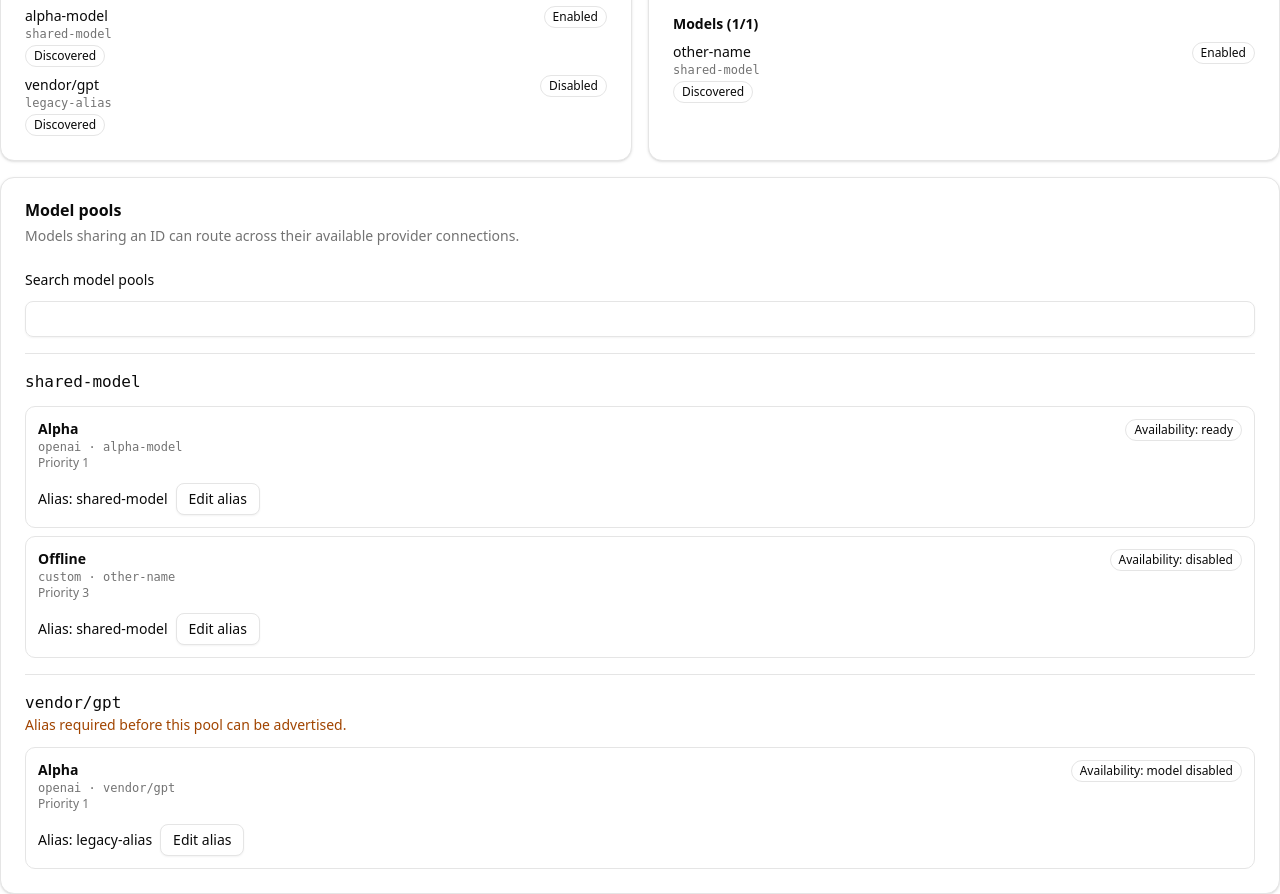
Providers model pools › removes an existing alias
(page scrolled)
Expected: the heading "Model pools" is shown, [25,199,121,221]
Step 1. Click the 3rd button "Edit alias" → (202, 840), box [160,824,244,856]
(page scrolled)
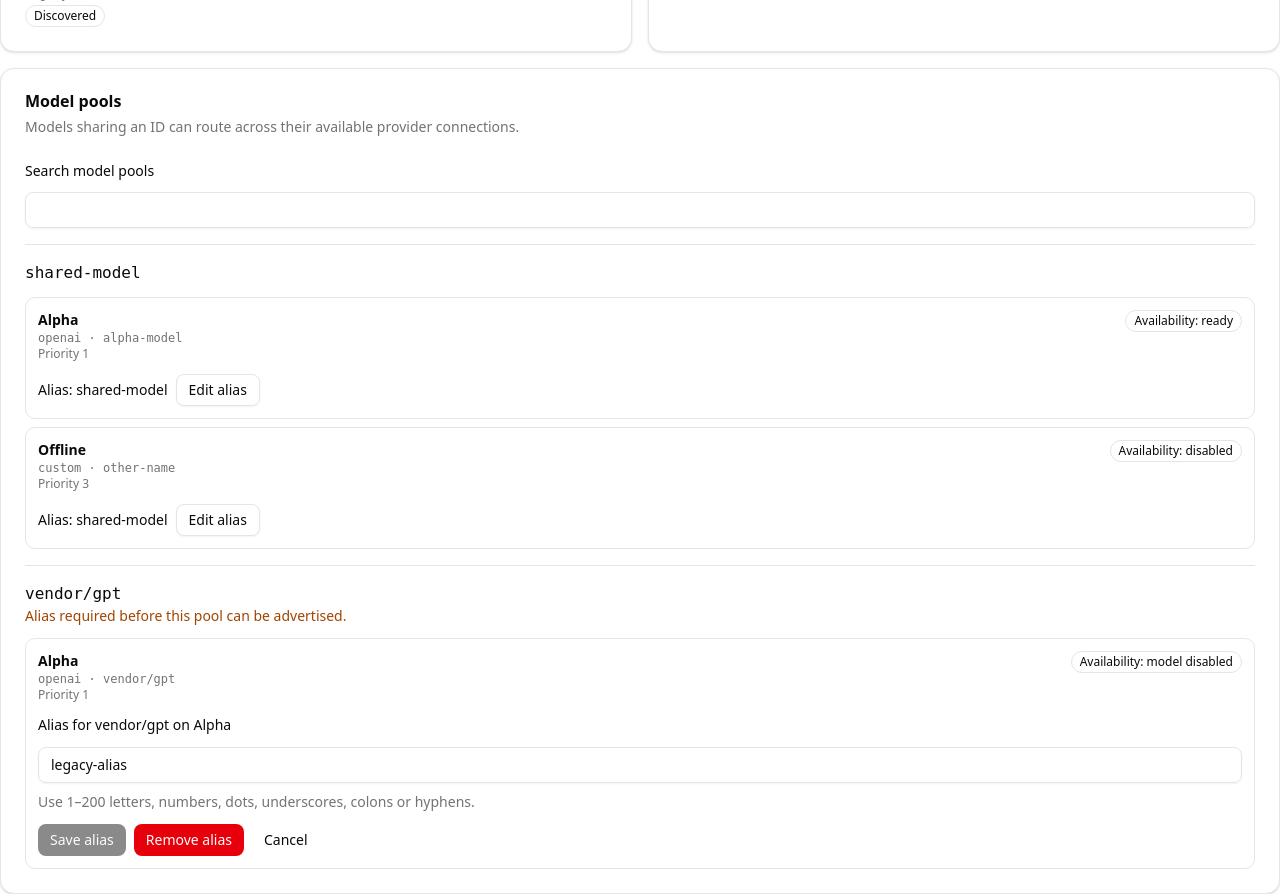
Step 2. Click the button "Remove alias" → (189, 840), box [134,824,244,856]
(page scrolled)
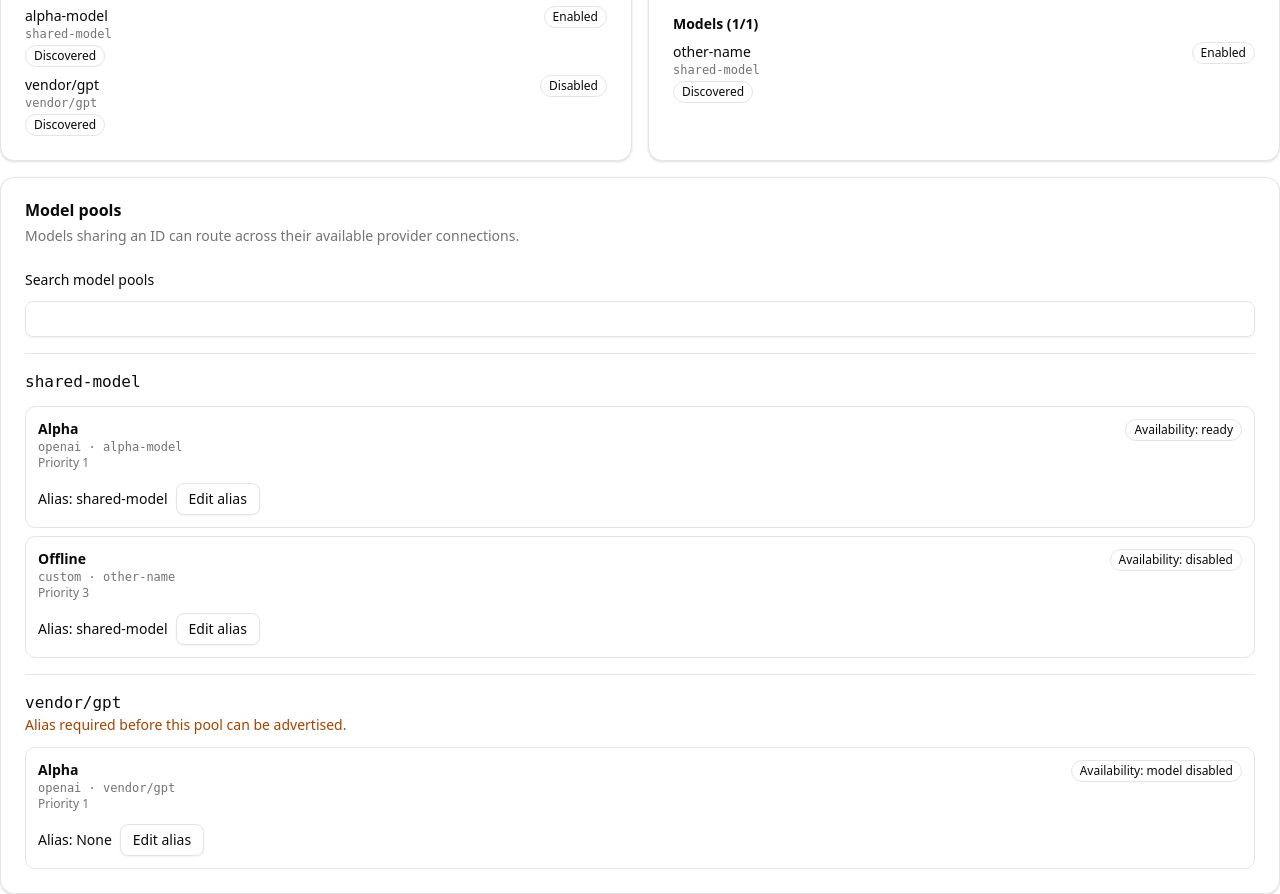
Result: the text "None" is shown at [76,830,112,849]
